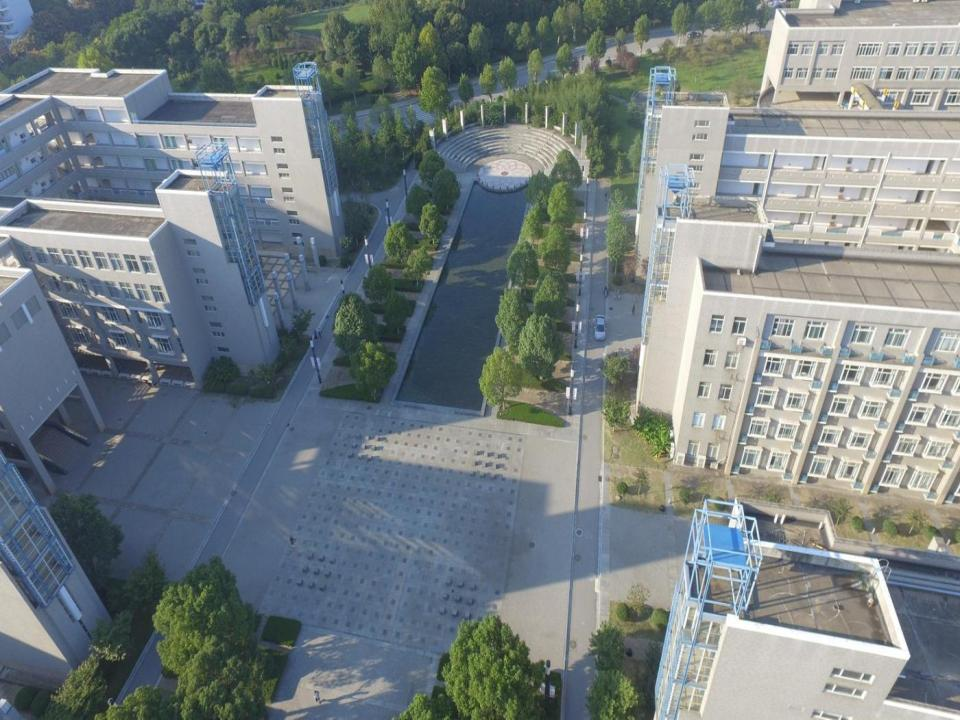car: (595, 313, 606, 342), (686, 30, 702, 38)
